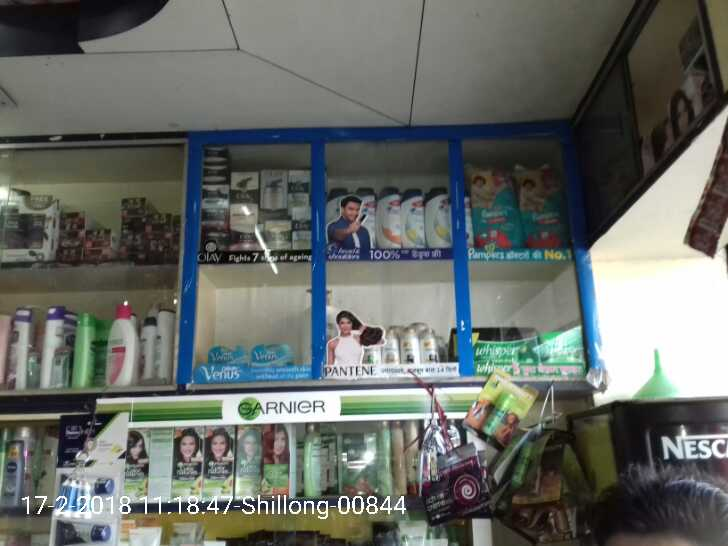venus: (250, 344, 290, 366), (208, 348, 250, 366)
